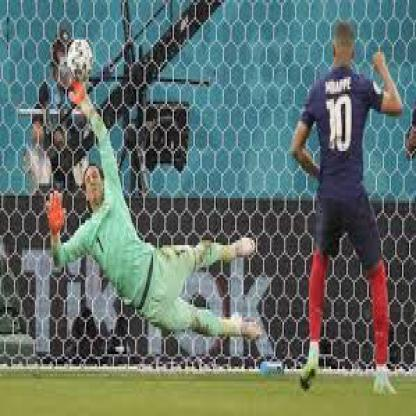goal: (34, 26, 217, 343)
